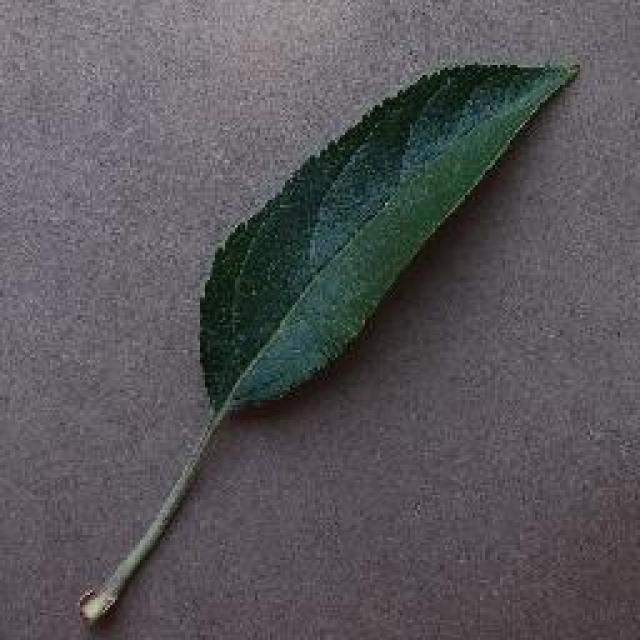apple healthy: (75, 52, 583, 628)
